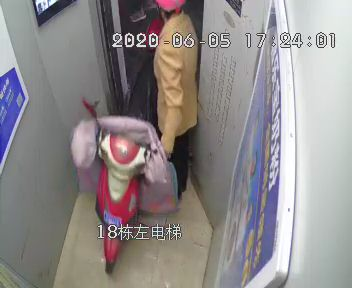Electric-bicycle: (69, 16, 179, 271)
